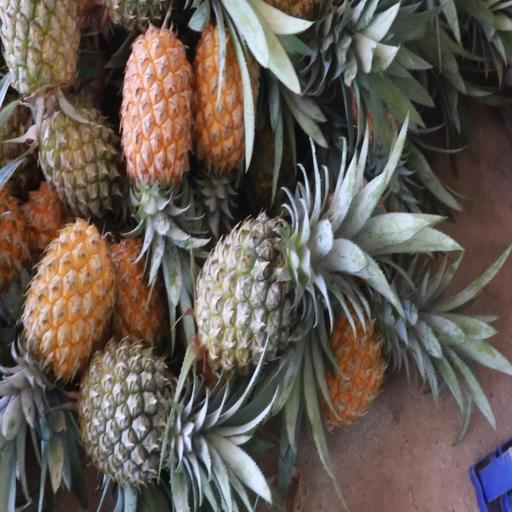Pineapple - v8 v1: (15, 217, 119, 404), (126, 12, 198, 225), (196, 20, 251, 182)
